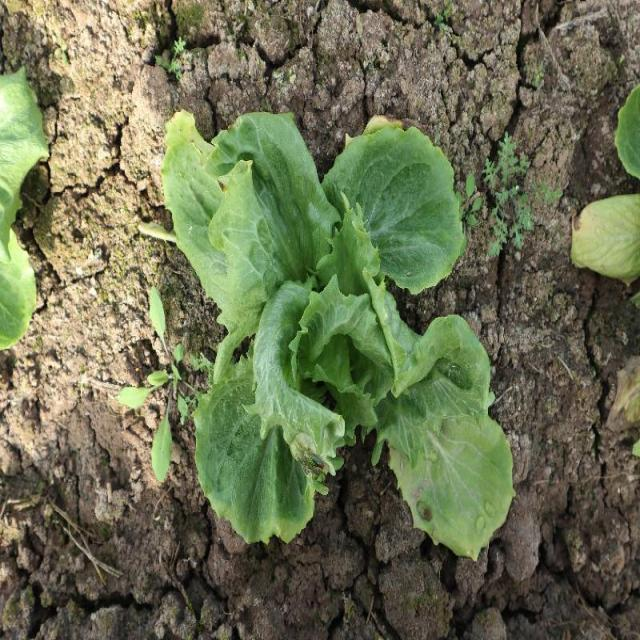crop: (163, 108, 513, 561)
